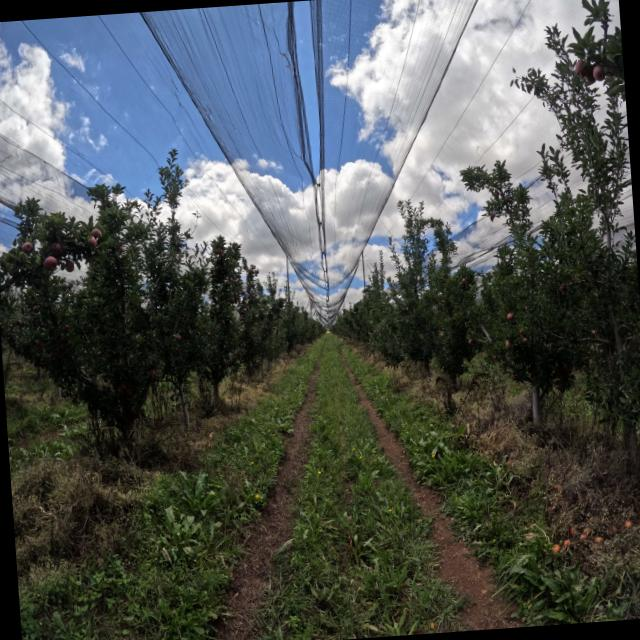-FireBlight-: (458, 362, 499, 403)
